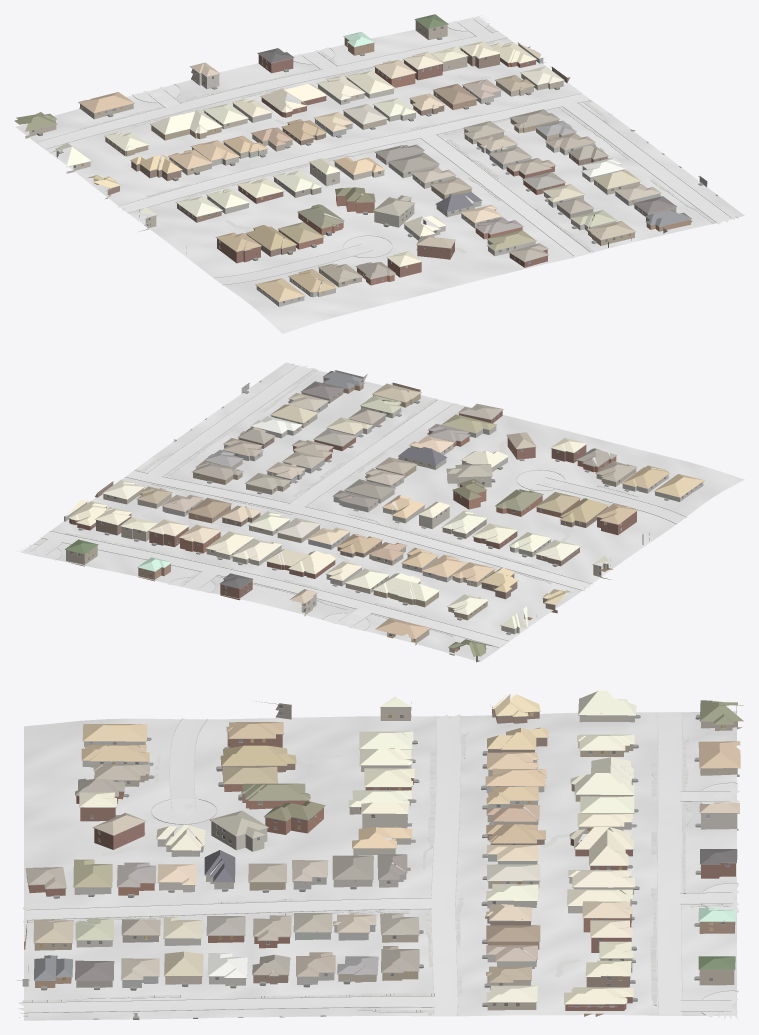
3 renders of one model, top to bottom at view 1: azimuth 30°, elevation 25°; view 2: azimuth 150°, elevation 25°; view 3: azimuth 270°, elevation 25°, orthographic. The views are drawn at different scales.
Visible parts, largest first — view 1: ground, roof, concrete, wall, detail, wall_stucco, curb, walk, wall_stone, glass; view 2: ground, roof, concrete, wall, detail, wall_stucco, curb, walk, wall_stone, glass; view 3: ground, roof, concrete, wall, wall_stucco, detail, walk, curb, wall_stone, glass.
Boxes of the visible parts, box(x1,y1,x2,y2) form: ground: box(16, 17, 744, 333); roof: box(14, 14, 691, 301); concrete: box(37, 14, 730, 284); wall: box(25, 20, 690, 287); detail: box(25, 20, 717, 303); wall_stucco: box(56, 42, 707, 231); curb: box(37, 19, 736, 285); walk: box(79, 41, 738, 277); wall_stone: box(192, 86, 667, 306); glass: box(32, 26, 643, 303); ground: box(21, 362, 744, 661); roof: box(65, 371, 703, 656); concrete: box(15, 366, 686, 647); wall: box(66, 377, 643, 662); detail: box(65, 370, 704, 649); wall_stucco: box(64, 383, 611, 634); curb: box(29, 364, 686, 647); walk: box(65, 363, 640, 636); wall_stone: box(162, 370, 703, 586); glass: box(70, 385, 700, 615); ground: box(24, 711, 736, 1020); roof: box(25, 691, 743, 1006); concrete: box(18, 713, 739, 1019); wall: box(24, 703, 742, 1010); wall_stucco: box(76, 702, 738, 990); detail: box(17, 701, 740, 1019); walk: box(22, 733, 732, 1016); curb: box(19, 713, 738, 1017); wall_stone: box(22, 741, 631, 986); glass: box(51, 704, 729, 1007).
Size of the model in its own units: 261 by 16.71 by 256.
